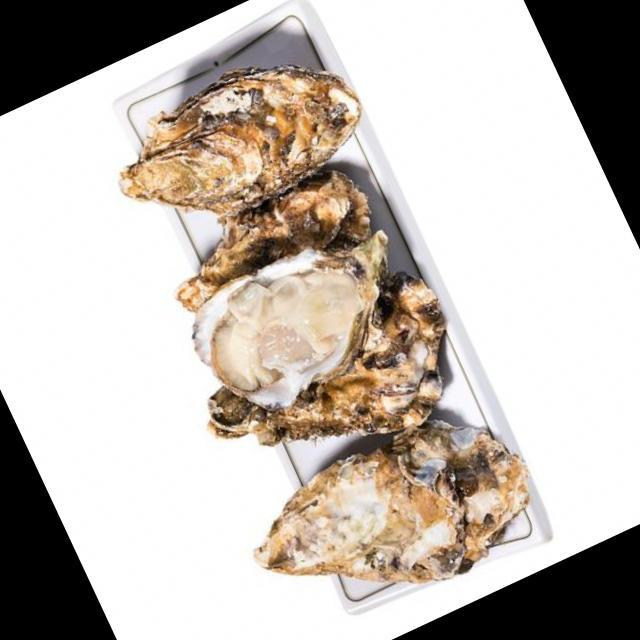Oyster- Indeterminate: (217, 378, 560, 640), (176, 259, 487, 514), (87, 25, 385, 262), (141, 152, 397, 338)
Oyster-Open: (168, 207, 448, 448)
